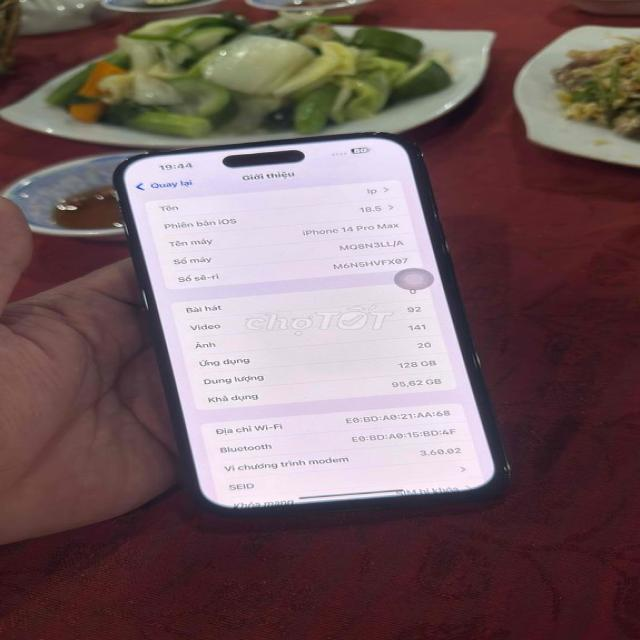gen_14: (110, 121, 540, 526)
